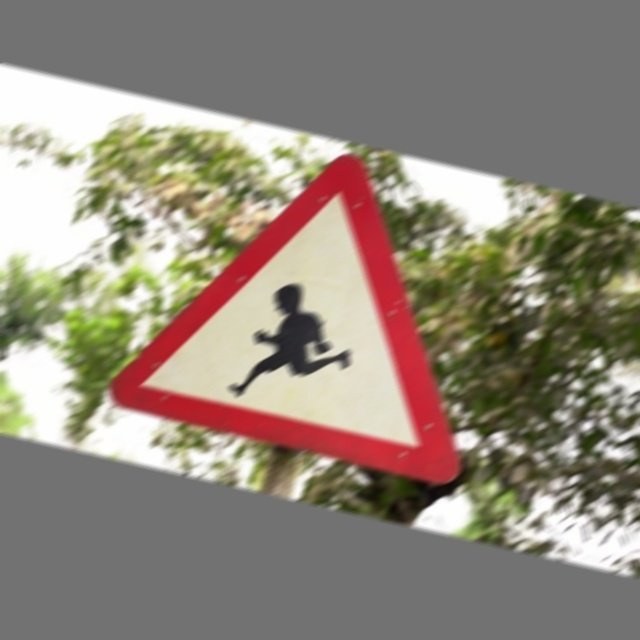School_Ahead: (118, 120, 517, 486)
